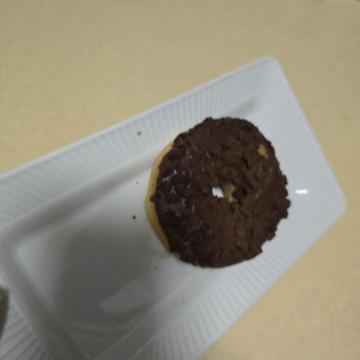doughnut: (102, 64, 292, 232)
